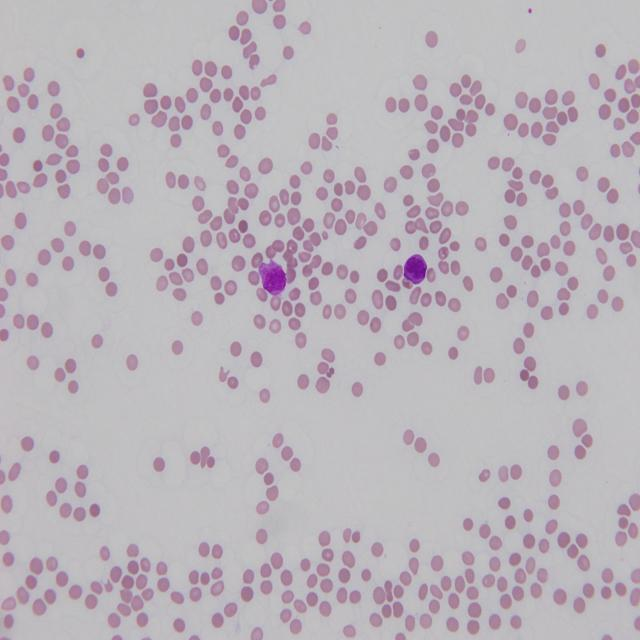cell: (259, 260, 286, 295), (404, 253, 428, 284)
